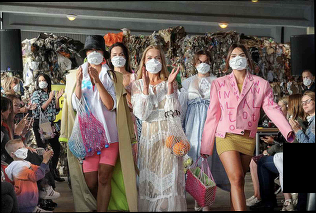with_mask: (228, 51, 248, 72), (144, 54, 163, 75), (85, 47, 105, 66), (110, 51, 127, 69), (195, 58, 211, 76), (14, 144, 29, 161), (301, 75, 313, 87), (38, 78, 49, 91), (13, 81, 21, 94)
without_mask: (301, 98, 314, 114), (4, 106, 12, 122), (14, 101, 22, 116)
